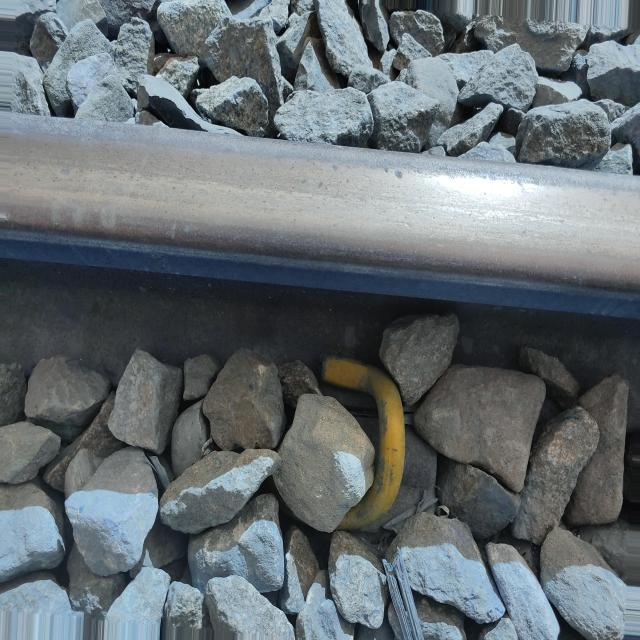Good Fasteners: (321, 357, 437, 533)
